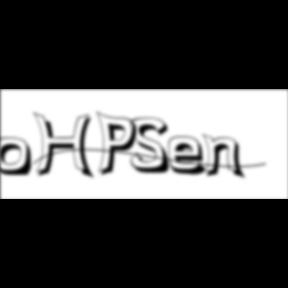H: (33, 112, 99, 182)
P: (97, 110, 144, 180)
S: (131, 117, 177, 176)
e: (168, 135, 214, 178)
n: (202, 132, 250, 181)
o: (1, 137, 36, 179)
